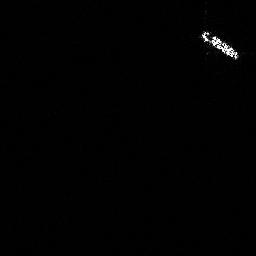ship: (197, 25, 242, 64)
